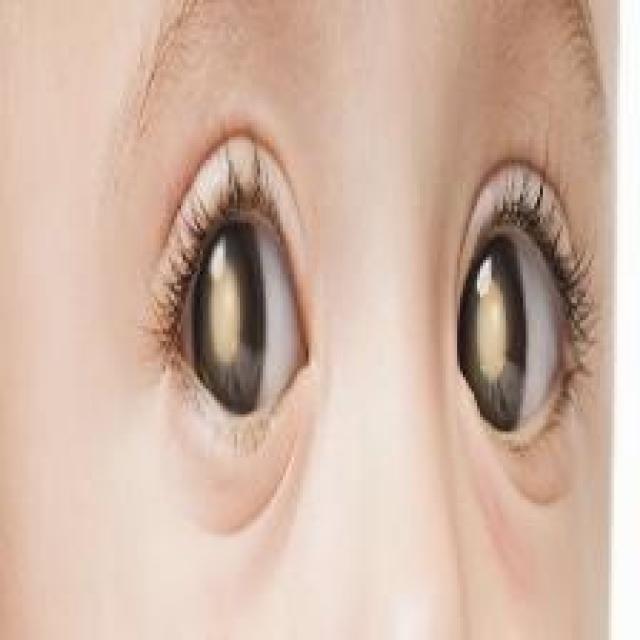reflexo-alterado: (135, 181, 314, 429), (439, 198, 594, 477)
